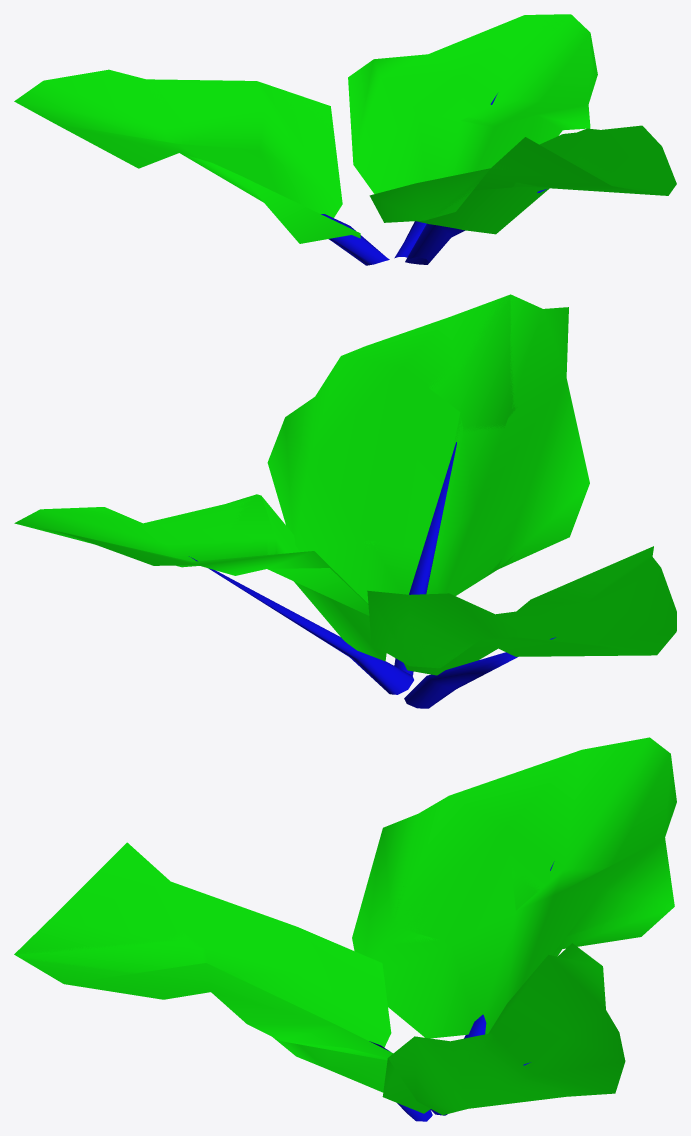
Rendered from Pumpkin_Dead.fbx.
The picture shows the model from 3 angles, top to bottom: view 1: azimuth 30°, elevation 25°; view 2: azimuth 150°, elevation 25°; view 3: azimuth 270°, elevation 25°; orthographic projection. The views are drawn at different scales.
Visible parts, largest first — view 1: BSTC_Pumpkin_Dead; view 2: BSTC_Pumpkin_Dead; view 3: BSTC_Pumpkin_Dead.
Boxes of the visible parts, x1=… form: BSTC_Pumpkin_Dead: x1=14, y1=14, x2=676, y2=265; BSTC_Pumpkin_Dead: x1=14, y1=294, x2=676, y2=708; BSTC_Pumpkin_Dead: x1=14, y1=737, x2=676, y2=1121.
Size of the model in its own units: 40.79 by 16.15 by 36.27.
